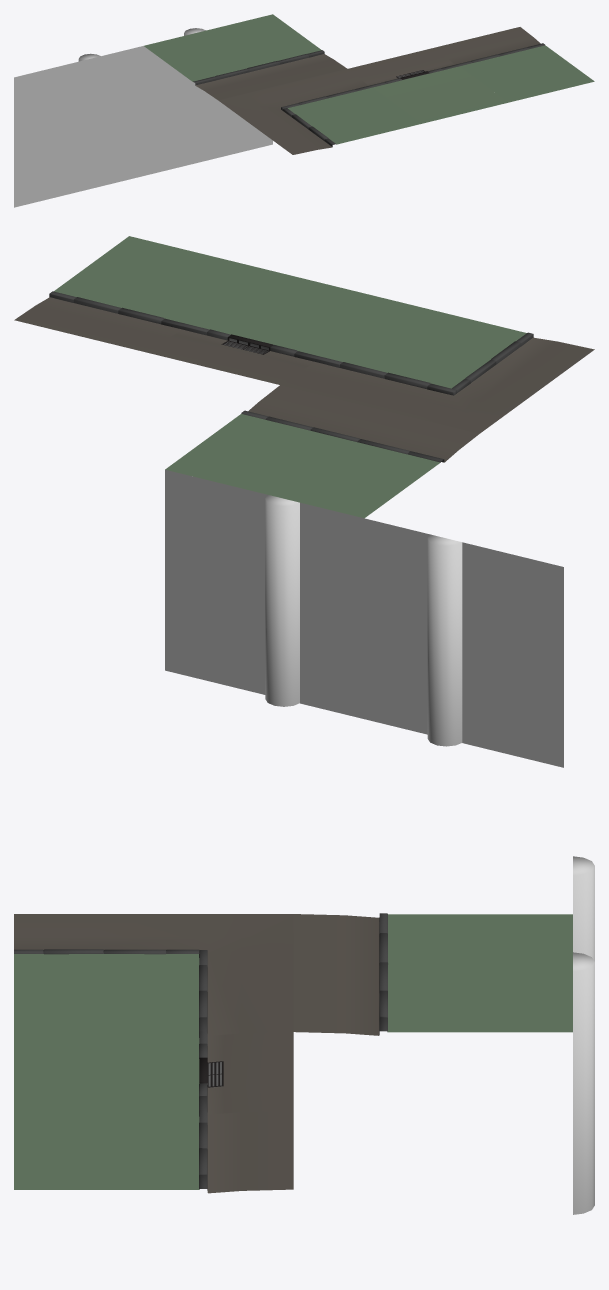
Rendered from ruas.fbx.
3 renders of one model, top to bottom at view 1: azimuth 30°, elevation 25°; view 2: azimuth 150°, elevation 25°; view 3: azimuth 270°, elevation 25°, orthographic. The views are drawn at different scales.
Visible parts, largest first — view 1: paredeRua, ruaT, ruaFim, rua, ruaBueiro; view 2: paredeRua, ruaFim, ruaT, ruaBueiro, rua; view 3: ruaT, ruaFim, ruaBueiro, rua, paredeRua.
Boxes of the visible parts, box(x1,y1,x2,y2) form: paredeRua: box(14, 28, 272, 207); ruaT: box(218, 69, 421, 154); ruaFim: box(144, 14, 347, 100); rua: box(434, 27, 594, 102); ruaBueiro: box(348, 48, 507, 123); paredeRua: box(165, 469, 563, 767); ruaFim: box(165, 385, 479, 518); ruaT: box(280, 301, 594, 433); ruaBueiro: box(147, 268, 394, 384); rua: box(14, 236, 261, 352); ruaT: box(14, 914, 293, 1035); ruaFim: box(293, 913, 572, 1035); ruaBueiro: box(14, 1031, 293, 1114); rua: box(14, 1110, 293, 1193); paredeRua: box(573, 856, 594, 1214).
Size of the model in its own units: 20 by 5.81 by 12.47.
